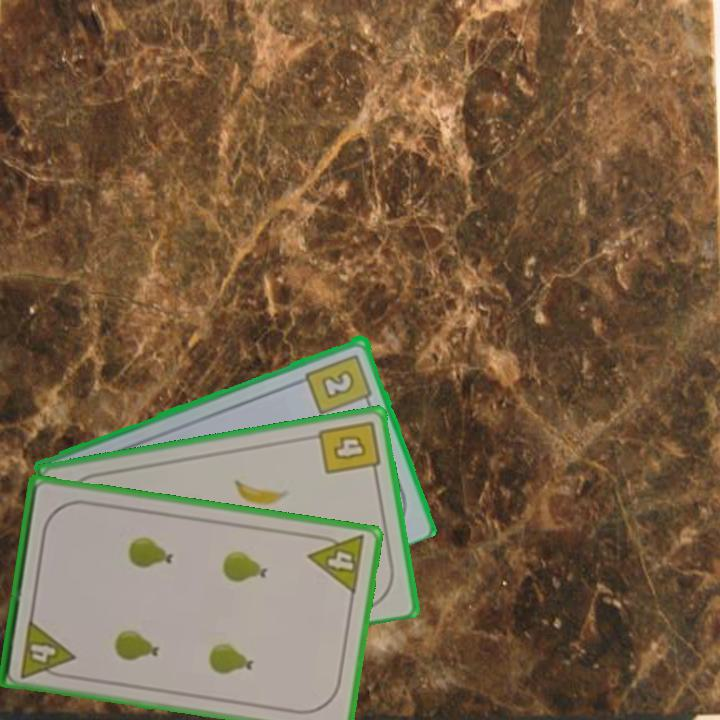2b: (302, 350, 375, 417)
4b: (315, 416, 383, 480)
4p: (305, 530, 368, 597), (16, 615, 77, 681)
